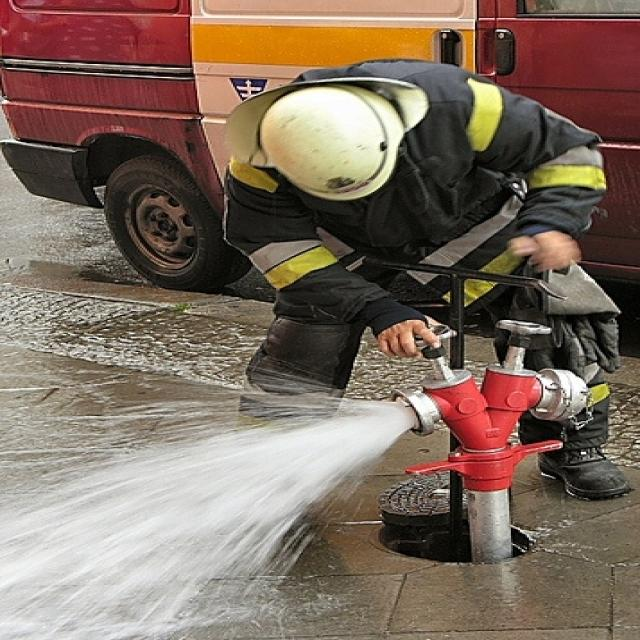fire_hydrant: (301, 317, 640, 590)
